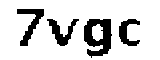7: (12, 5, 45, 49)
c: (116, 16, 147, 50)
g: (82, 16, 115, 60)
v: (46, 15, 81, 49)
